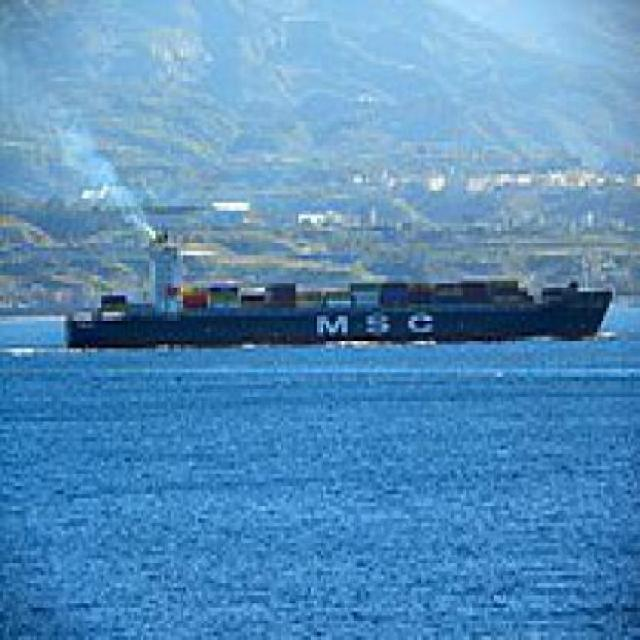container: (56, 268, 617, 357)
